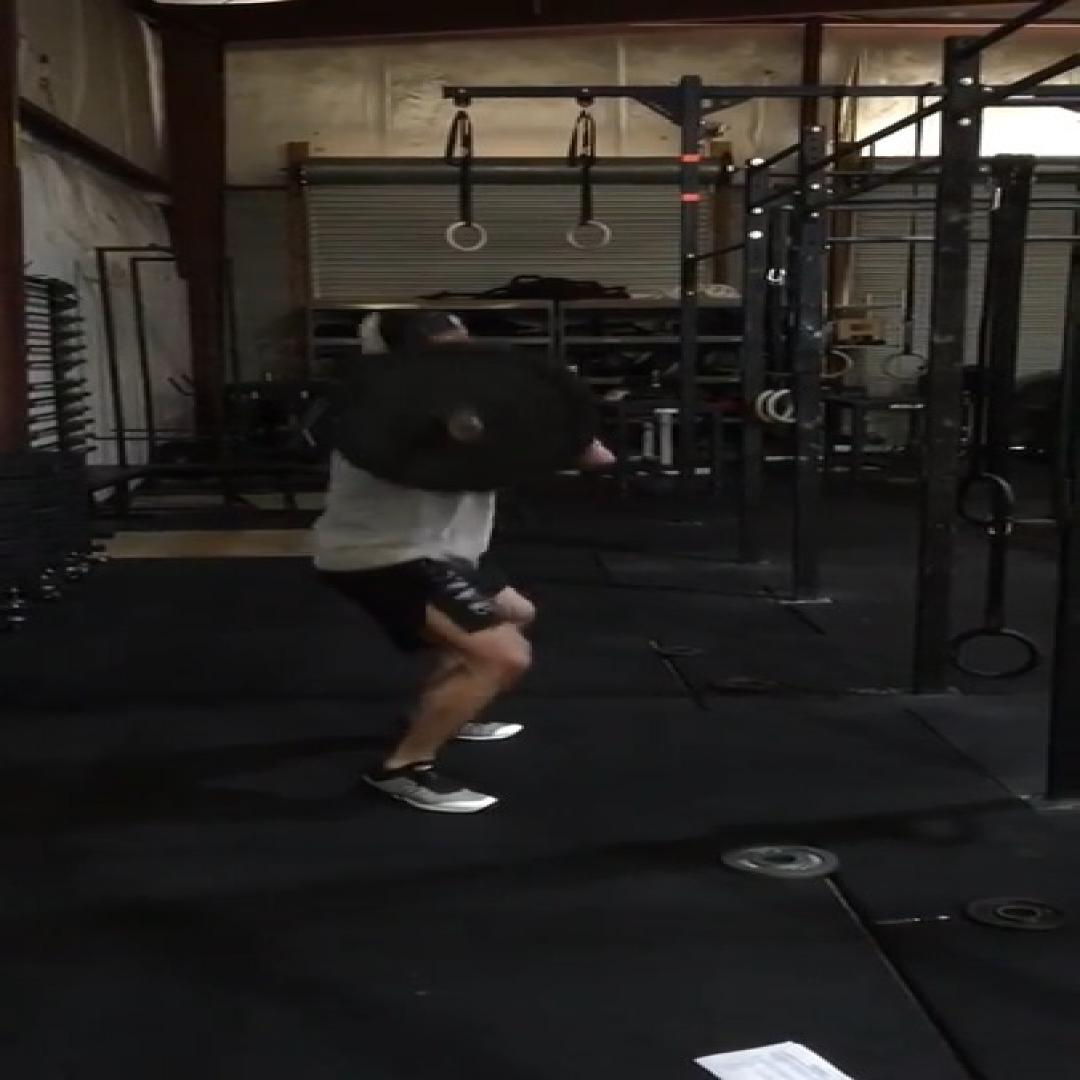Bar: (447, 417, 487, 441)
Barbell: (324, 346, 596, 492)
